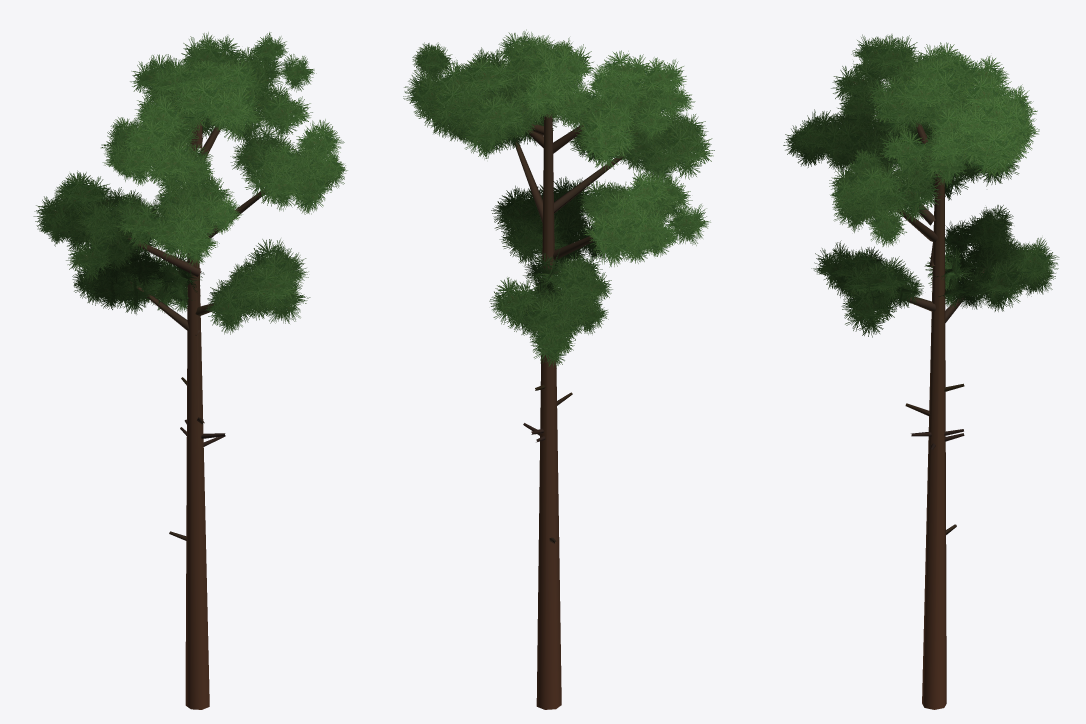
The model's file is tree-pino.glb.
The picture shows the model from 3 angles, left to right: view 1: azimuth 30°, elevation 25°; view 2: azimuth 150°, elevation 25°; view 3: azimuth 270°, elevation 25°; orthographic projection. The views are drawn at different scales.
Visible parts, largest first — view 1: tree-pino; view 2: tree-pino; view 3: tree-pino.
Part boxes in pixels (left/top/right/bottom): tree-pino: left=33, top=32, right=347, bottom=709; tree-pino: left=403, top=29, right=714, bottom=709; tree-pino: left=783, top=34, right=1059, bottom=709.
Bounding box in the file's own units: 9.96 × 21.4 × 9.04.
2 materials, 1 textured.
